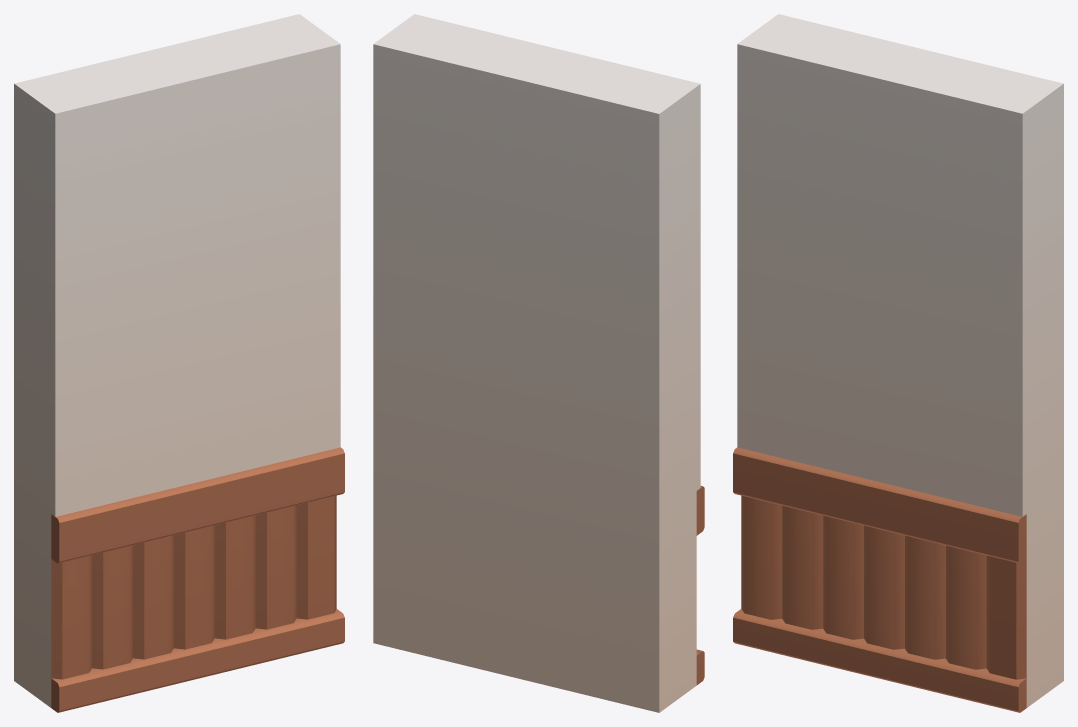
File: wall-panelled-bakery-straight.glb
The picture shows the model from 3 angles, left to right: view 1: azimuth 30°, elevation 25°; view 2: azimuth 150°, elevation 25°; view 3: azimuth 330°, elevation 25°; orthographic projection.
Parts seen in each view (by area): view 1: wall_panelled_bakery_straight; view 2: wall_panelled_bakery_straight; view 3: wall_panelled_bakery_straight.
Part boxes in pixels (x1,y1,x2,y2): wall_panelled_bakery_straight: [14, 14, 344, 712]; wall_panelled_bakery_straight: [373, 14, 704, 712]; wall_panelled_bakery_straight: [733, 14, 1063, 712].
Bounding box in the file's own units: 2 × 4 × 0.55.
Materials: 1 (1 with a texture image).
